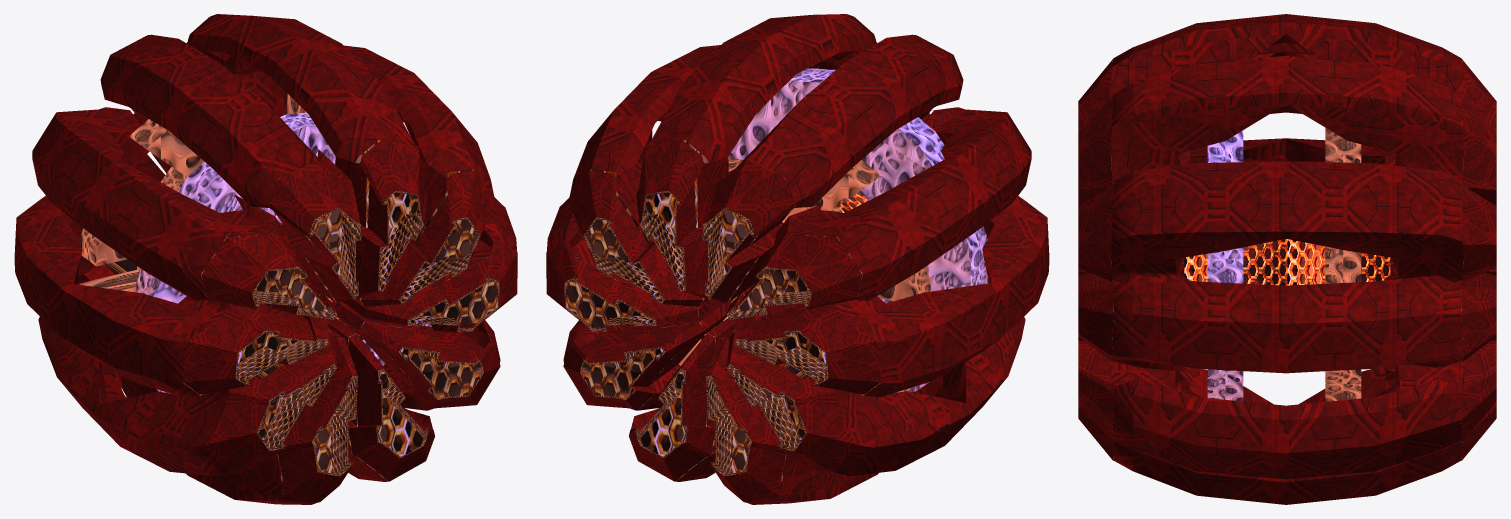
Rendered from RollingBalls_Sci-fi_2_5.glb.
3 views of the same model, side by side, from view 1: azimuth 30°, elevation 25°; view 2: azimuth 150°, elevation 25°; view 3: azimuth 270°, elevation 25° (orthographic). The views are drawn at different scales.
Visible parts, largest first — view 1: RollingBalls_Sci-fi_2_5; view 2: RollingBalls_Sci-fi_2_5; view 3: RollingBalls_Sci-fi_2_5.
Boxes of the visible parts, x1,y1,x2,y2 form: RollingBalls_Sci-fi_2_5: (14,14,517,504); RollingBalls_Sci-fi_2_5: (546,14,1049,504); RollingBalls_Sci-fi_2_5: (1078,14,1496,504).
Size of the model in its own units: 1.64 by 1.64 by 1.41.
3 materials, 3 textured.
